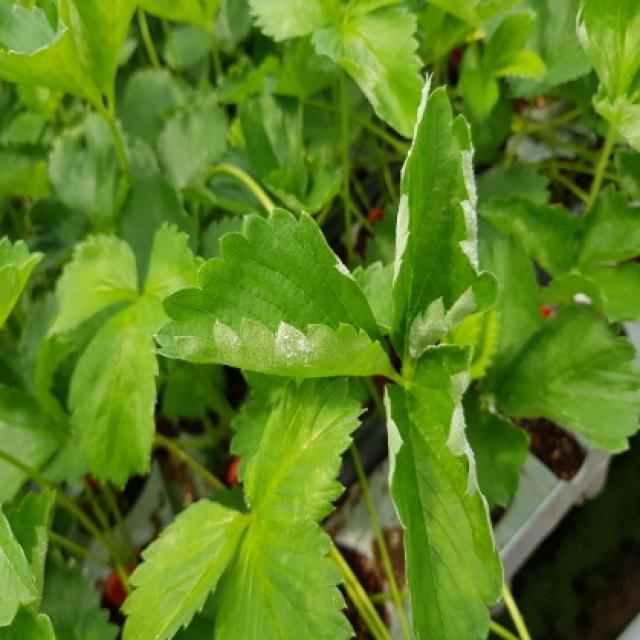Powdery Mildew Leaf: (151, 208, 396, 379), (381, 342, 506, 638), (391, 71, 502, 363), (2, 487, 56, 607)
